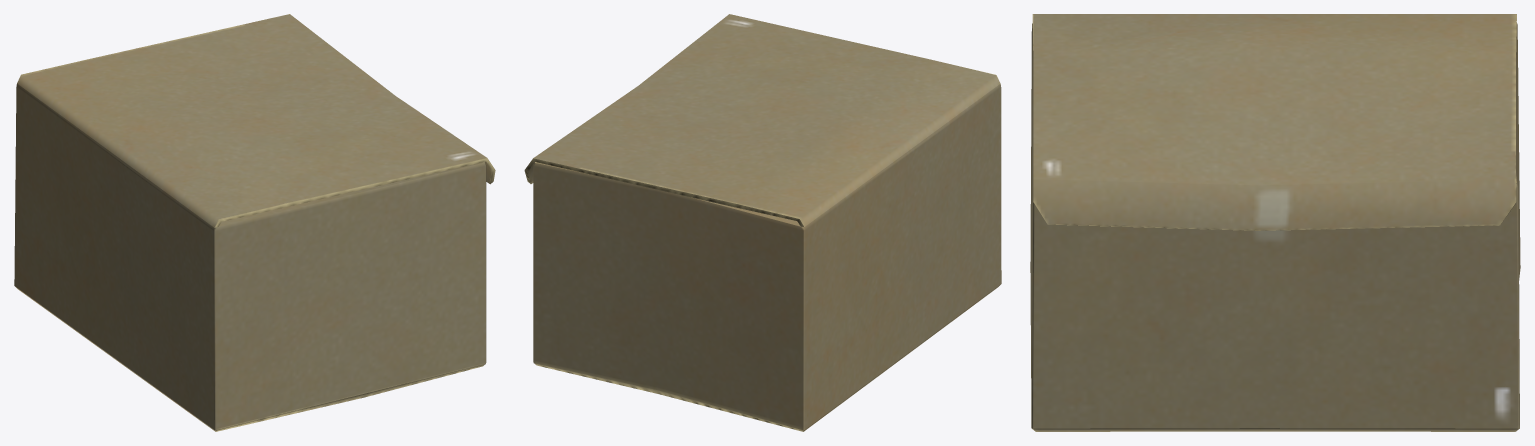
Rendered from SM_Boxes_01b.fbx.
3 renders of one model, left to right at view 1: azimuth 30°, elevation 25°; view 2: azimuth 150°, elevation 25°; view 3: azimuth 270°, elevation 25°, orthographic. The views are drawn at different scales.
Visible parts, largest first — view 1: SM_Boxes_01b_LOD0; view 2: SM_Boxes_01b_LOD0; view 3: SM_Boxes_01b_LOD0.
Part boxes in pixels (left/top/right/bottom): SM_Boxes_01b_LOD0: left=14, top=14, right=495, bottom=431; SM_Boxes_01b_LOD0: left=524, top=14, right=1001, bottom=431; SM_Boxes_01b_LOD0: left=1030, top=14, right=1520, bottom=431.
Size of the model in its own units: 32.5 by 39.34 by 23.89.
